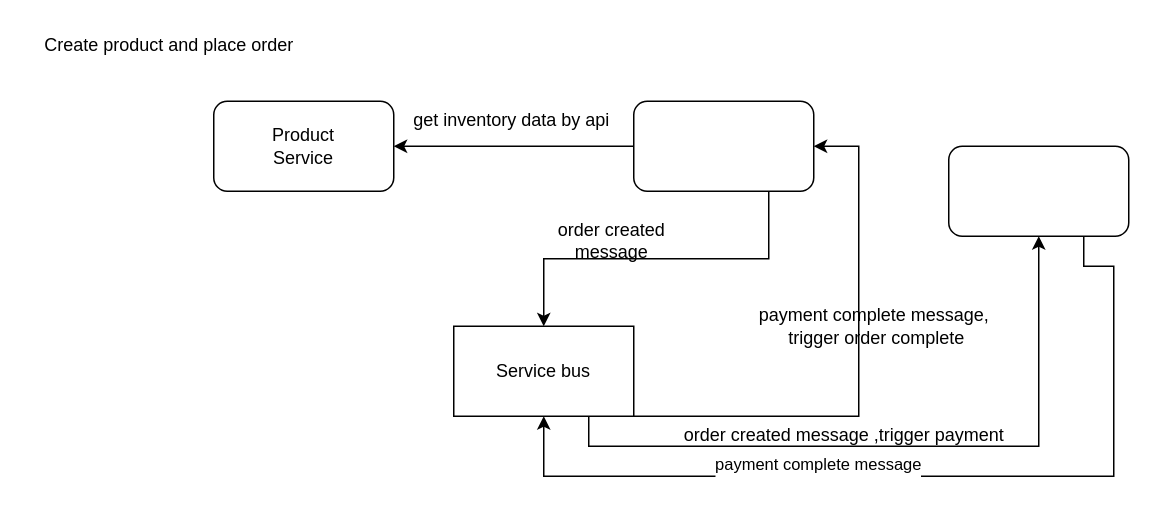
The diagram is 1155 pixels wide and 519 high, and some of its shapes have lost their labels. Each missing label, with the centre of its shape:
Order Service: point 723,145
Payment Service: point 1038,190
